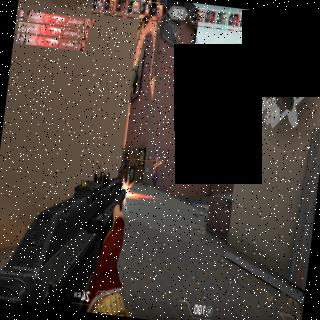ENEMY-BODY: (152, 156, 160, 190)
ENEMY-HEAD: (156, 156, 158, 162)
